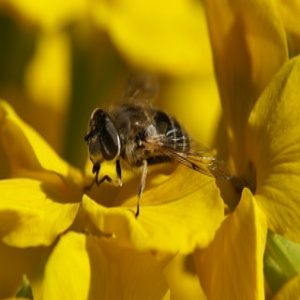bee: (85, 71, 231, 212)
